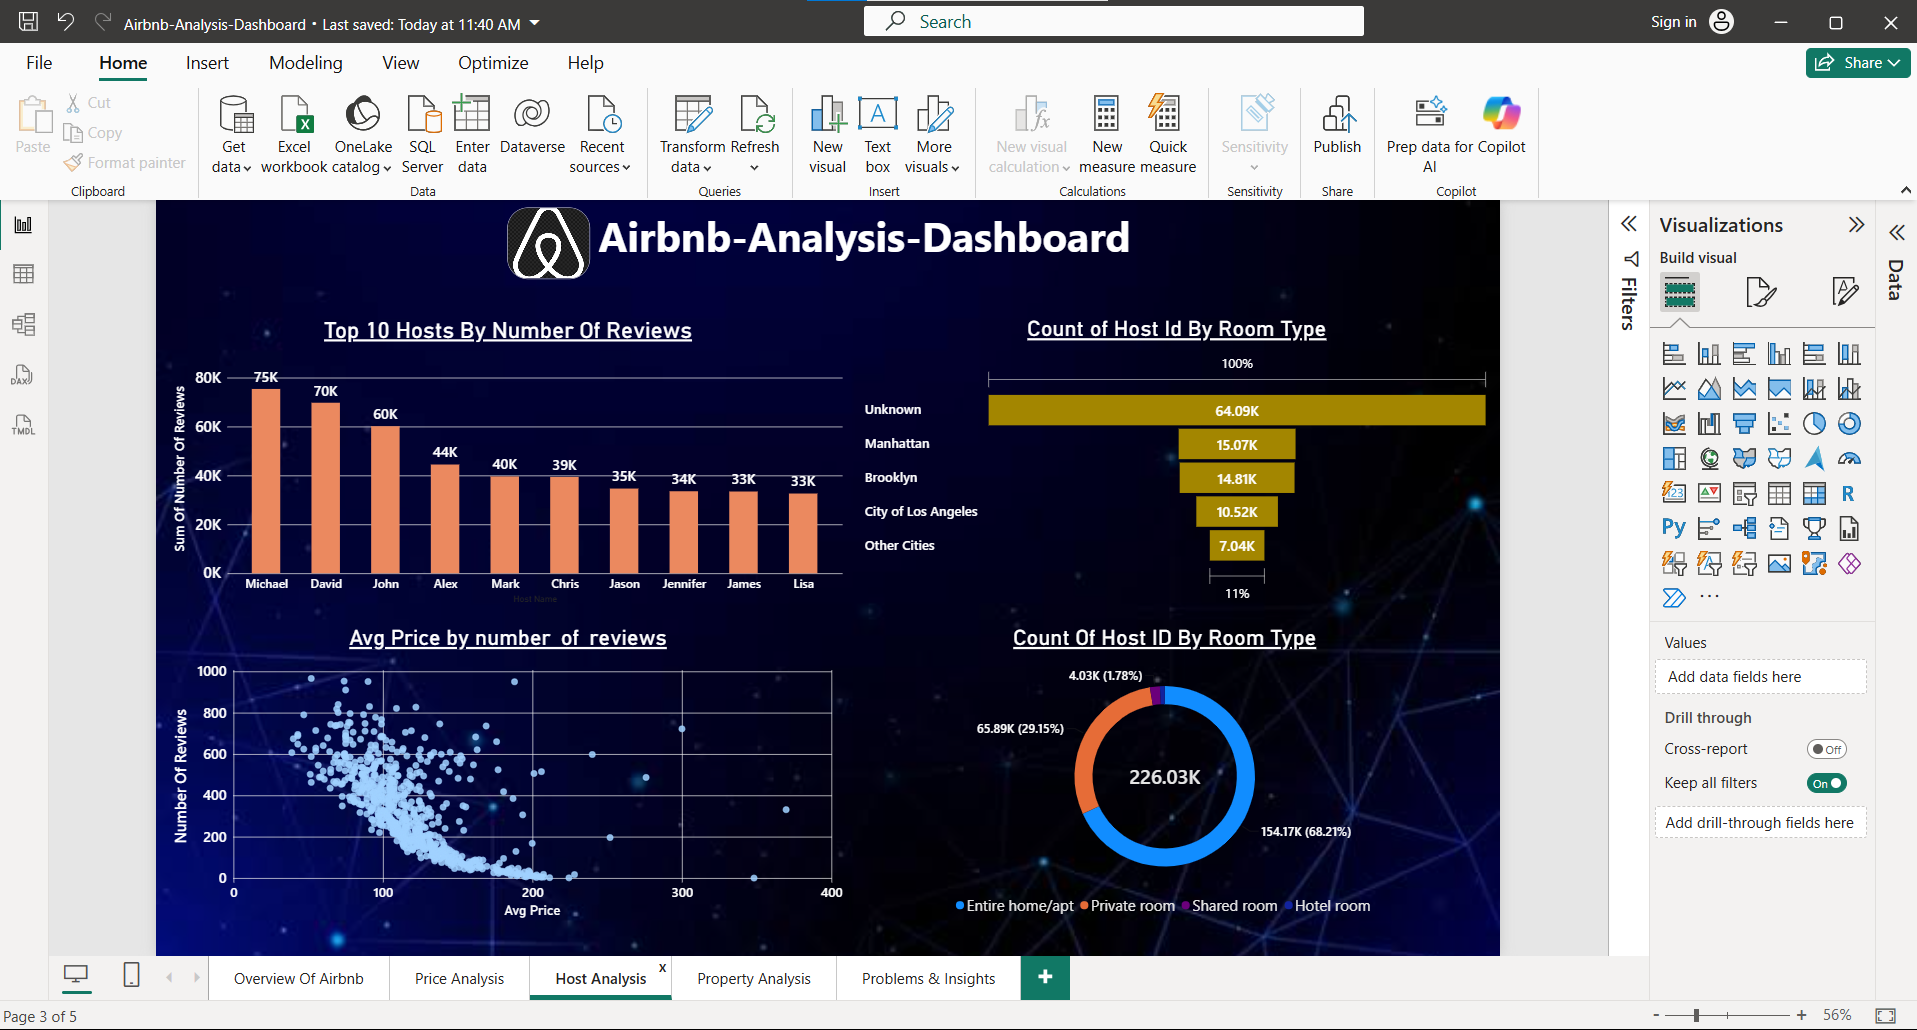

What the dashboard file says about the page in this screenshot:
{"tool":"powerbi","page":{"name":"Host Analysis","canvas":[1920,1080],"ordinal":2},"visuals":[{"type":"shape","box":[0,10.9,1920,124],"z":0},{"type":"image","box":[502,10,118,102],"z":1000},{"type":"textbox","box":[632.7,10.9,1241.8,101.8],"z":2000},{"type":"clusteredColumnChart","title":"Top 10 Hosts By Number Of Reviews","fields":{"Category":["AB_US_2020.host_name"],"Y":["Sum(AB_US_2020.number_of_reviews)"]},"box":[8.2,152.3,988,440.5],"z":3000},{"type":"scatterChart","fields":{"X":["AB_US_2020.Avg Price"],"Y":["AB_US_2020.number_of_reviews"]},"box":[8.2,592.8,988,448.7],"z":4000},{"type":"donutChart","title":"Count Of Host ID By Room Type","fields":{"Category":["AB_US_2020.room_type"],"Y":["CountNonNull(AB_US_2020.host_id)"]},"box":[1008.9,592.9,864.3,448.2],"z":5000},{"type":"funnel","title":"Count of Host Id By Room Type","fields":{"Category":["AB_US_2020.neighbourhood_group"],"Y":["Count(AB_US_2020.host_id)"]},"box":[996,152,924,440],"z":6000}]}

Visuals, with their boxes on the page's 1920x1080 design canvas (x1, y1, x2, y2). These are canvas units, not pixel positions in the 1917x1030 screenshot, which may show the page scaled, cropped or inside an application window:
shape: BBox(0, 11, 1920, 135)
image: BBox(502, 10, 620, 112)
textbox: BBox(633, 11, 1874, 113)
"Top 10 Hosts By Number Of Reviews" clusteredColumnChart: BBox(8, 152, 996, 593)
scatterChart - AB_US_2020.Avg Price x AB_US_2020.number_of_reviews: BBox(8, 593, 996, 1042)
"Count Of Host ID By Room Type" donutChart: BBox(1009, 593, 1873, 1041)
"Count of Host Id By Room Type" funnel: BBox(996, 152, 1920, 592)
